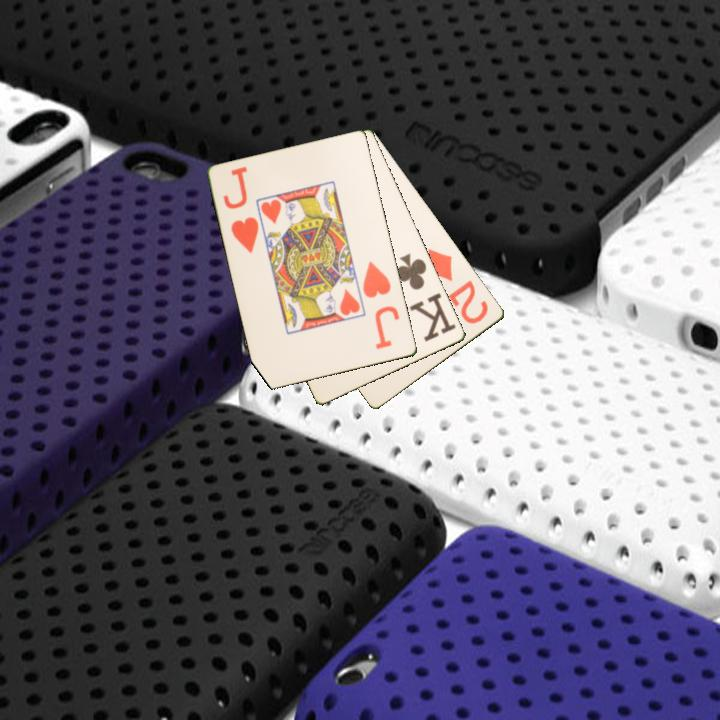2d: (424, 245, 492, 327)
Jh: (359, 258, 403, 352), (228, 213, 262, 256)
Kc: (392, 250, 459, 345)
